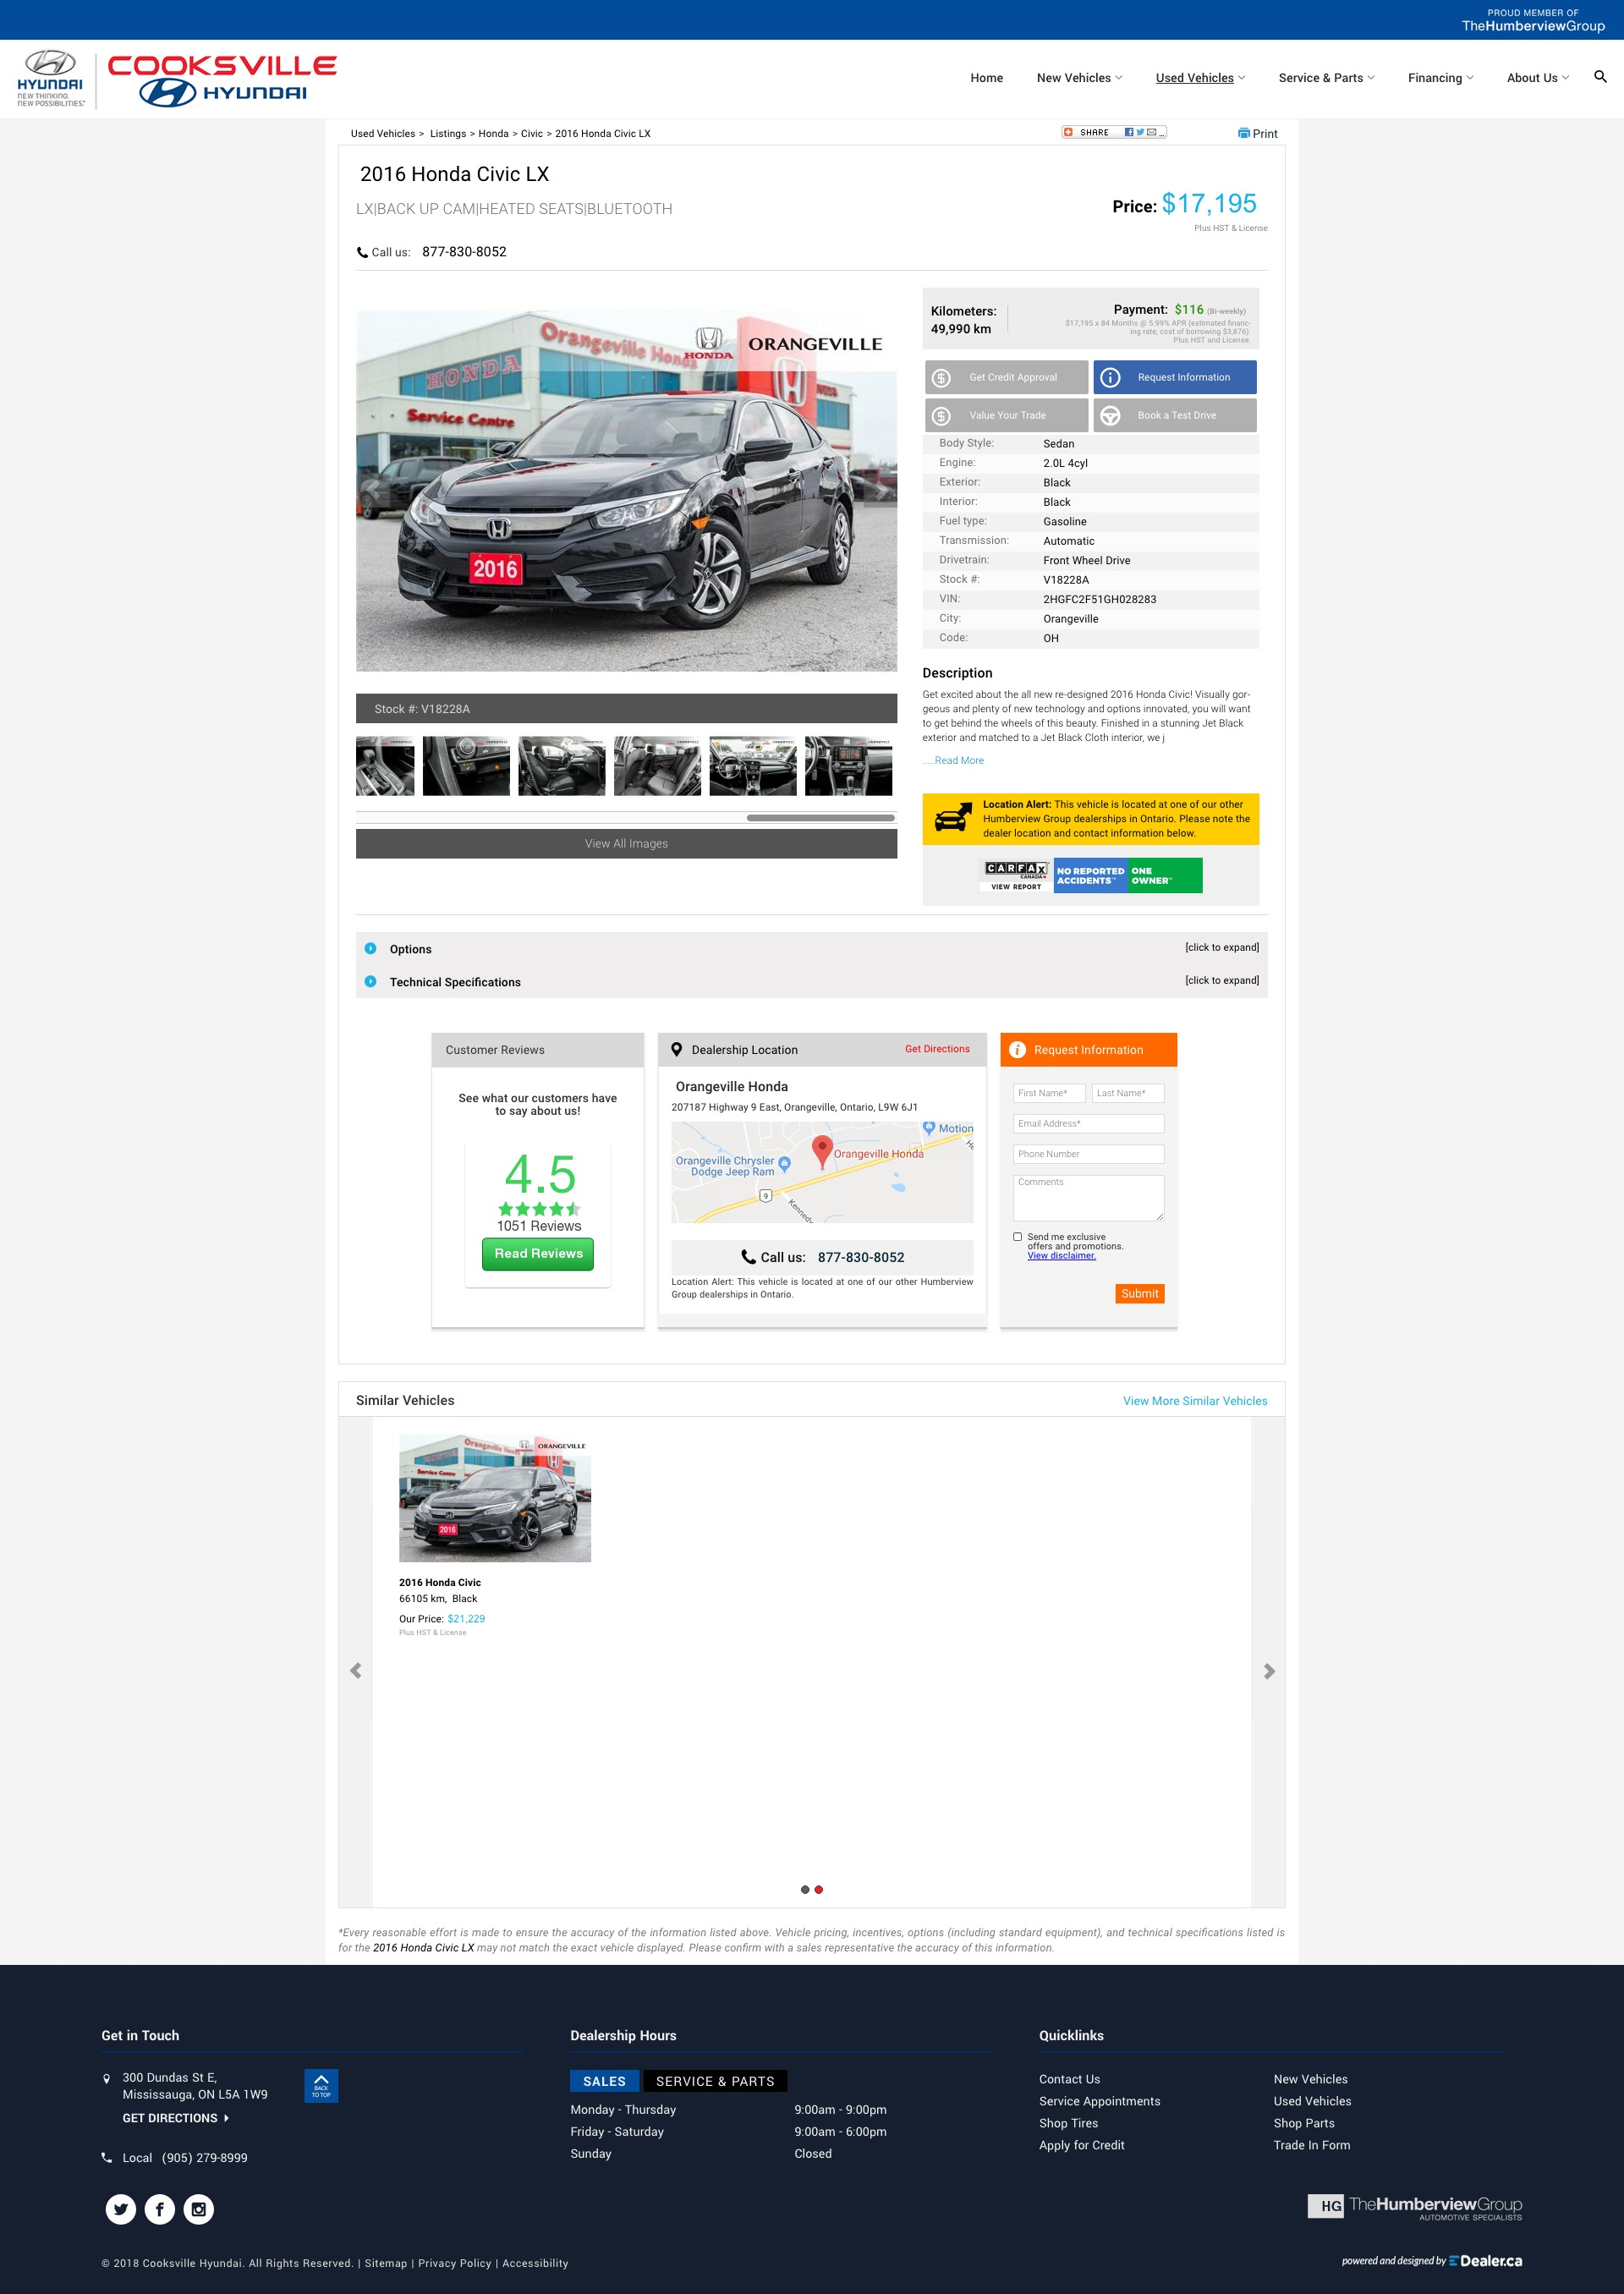car: (865, 473, 900, 510)
